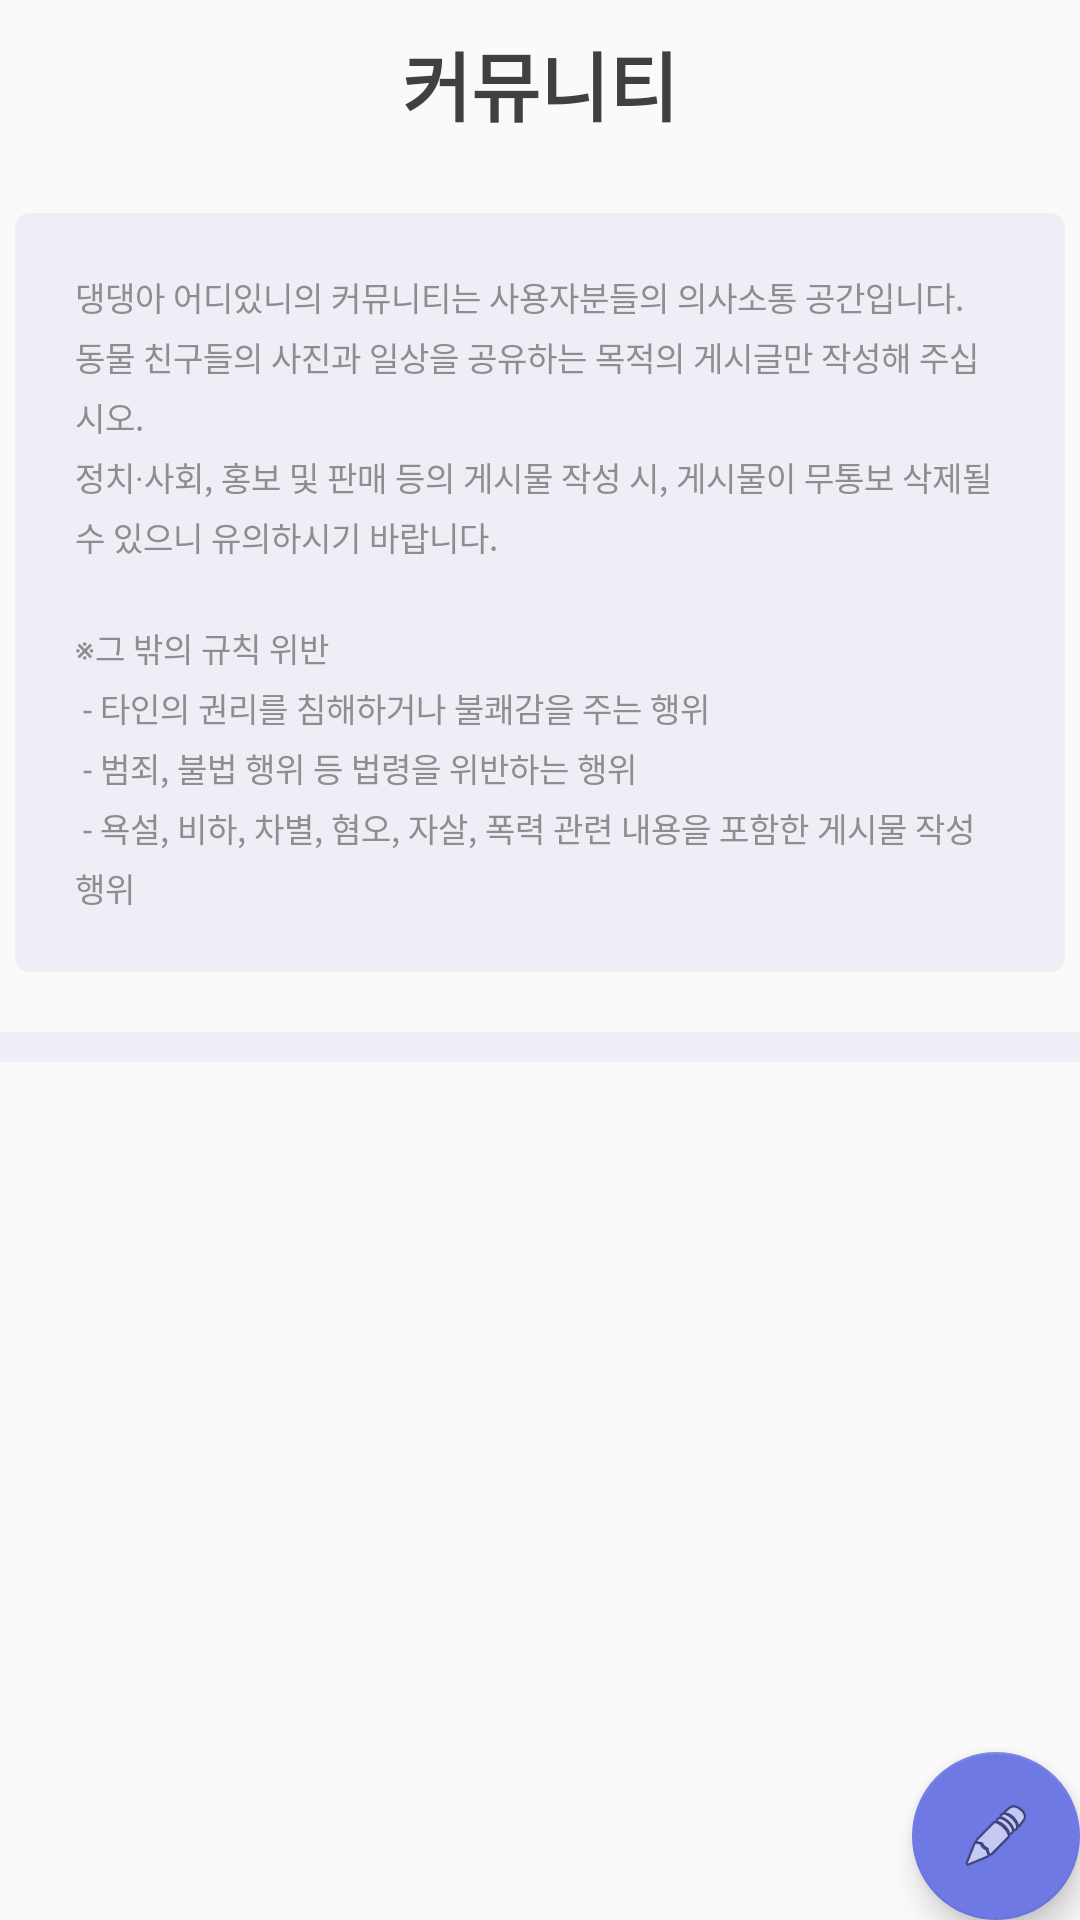

Named icons in this screenshot (1080px x 1920px) and their bounding boxes, [left=x1, top=y1, right=x2, bottom=y2]:
edit: [left=912, top=1752, right=1080, bottom=1920]
